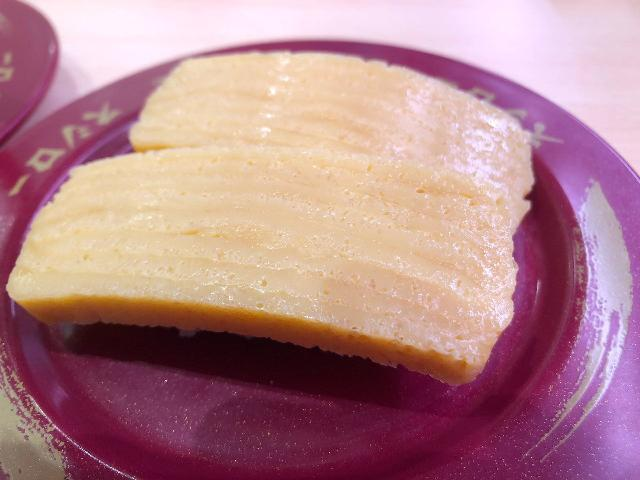janred: (27, 42, 596, 476), (0, 5, 47, 117)
